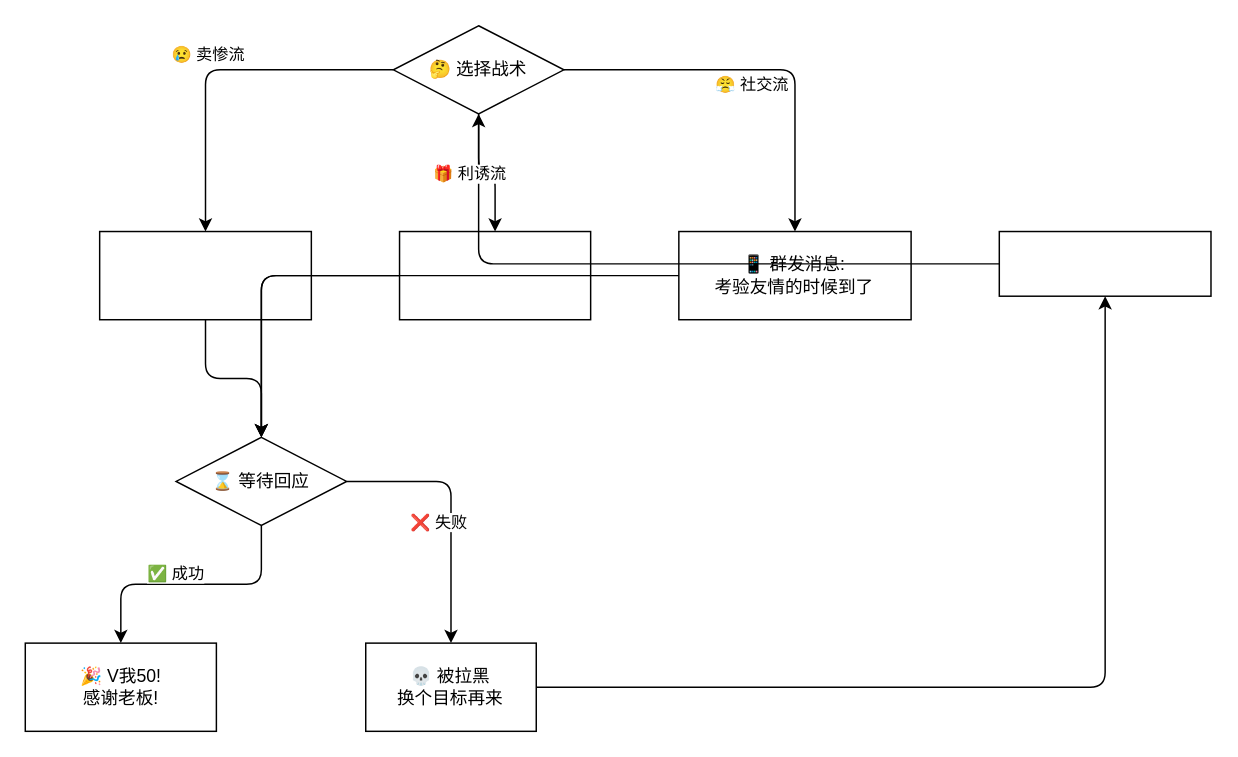
Image size: 1238x757. Some labels were removed from this diagram. Here are the shapes that lost their labels. From the top down, the centre of each, then its label:
point (204, 275): 📖 编造故事: 猫生病/房租到期
point (494, 275): 💰 承诺回报: 下周还60!
point (1104, 263): 🎯 急需50块钱
